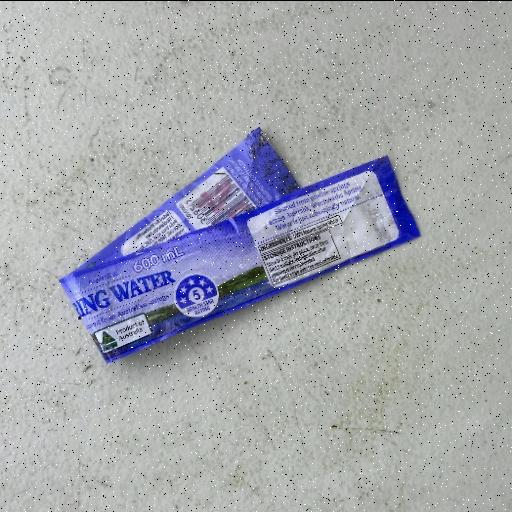Plastic: (56, 124, 422, 366)
